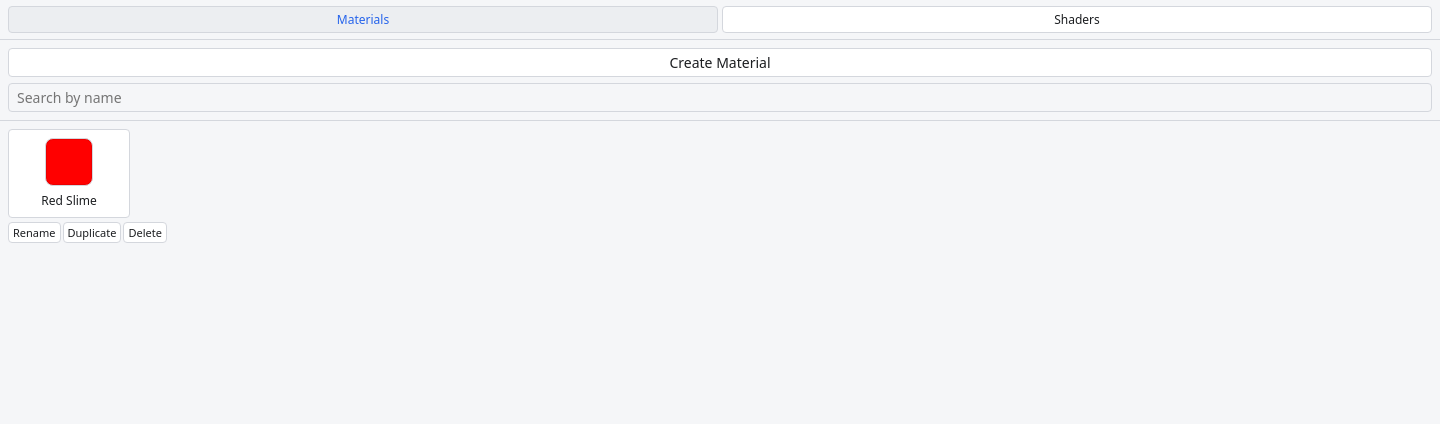
material definition panel › removes the shader assignment and its uniforms when None is chosen
Expected: the text "Red Slime" is shown, [41,192,97,209]
Click the button with aria-label "Select Red Slime" at (69, 174), box [8,129,130,218]
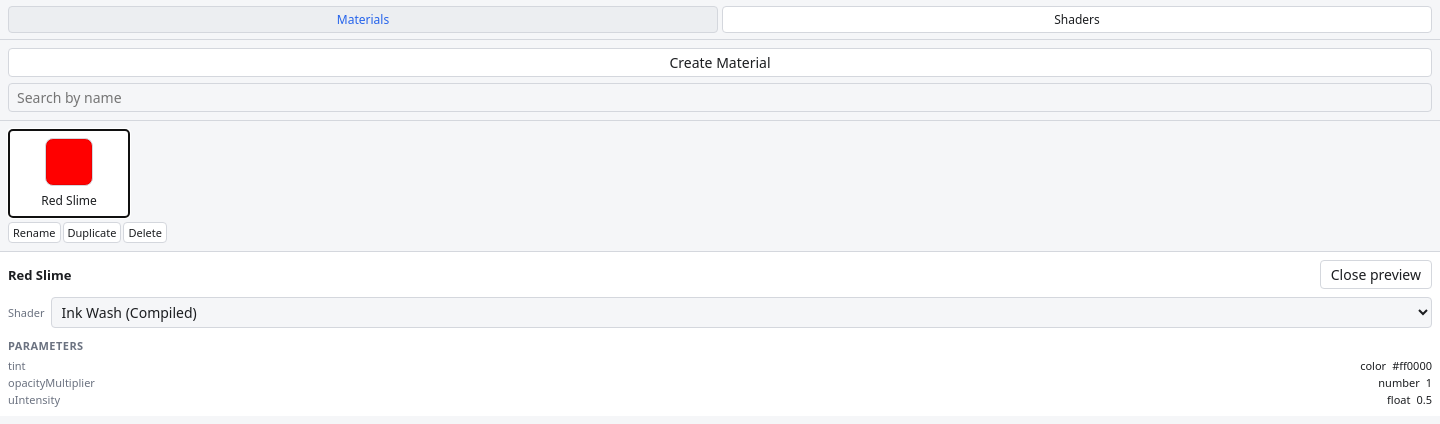
Result: the element named "Material definition" shows "uIntensity" at [8,392,60,407]
Result: the dropdown labelled "Shader" shows "Ink Wash (Compiled)"
Select "None" in the dropdown labelled "Shader" at (741, 312), box [50,297,1432,328]
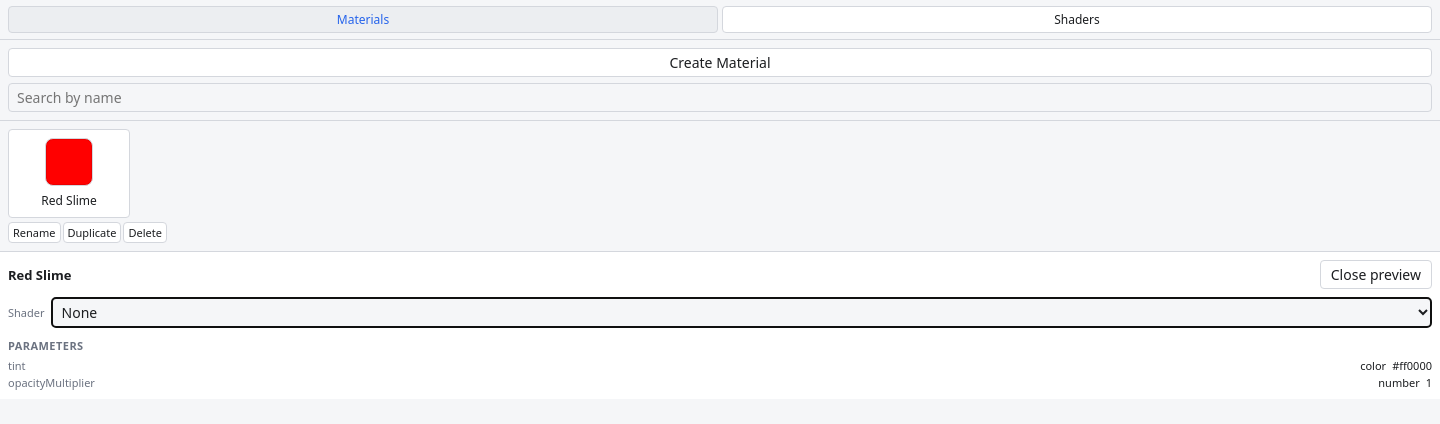
Result: the element named "Material definition" no longer shows "uIntensity" at [0,251,1439,399]
